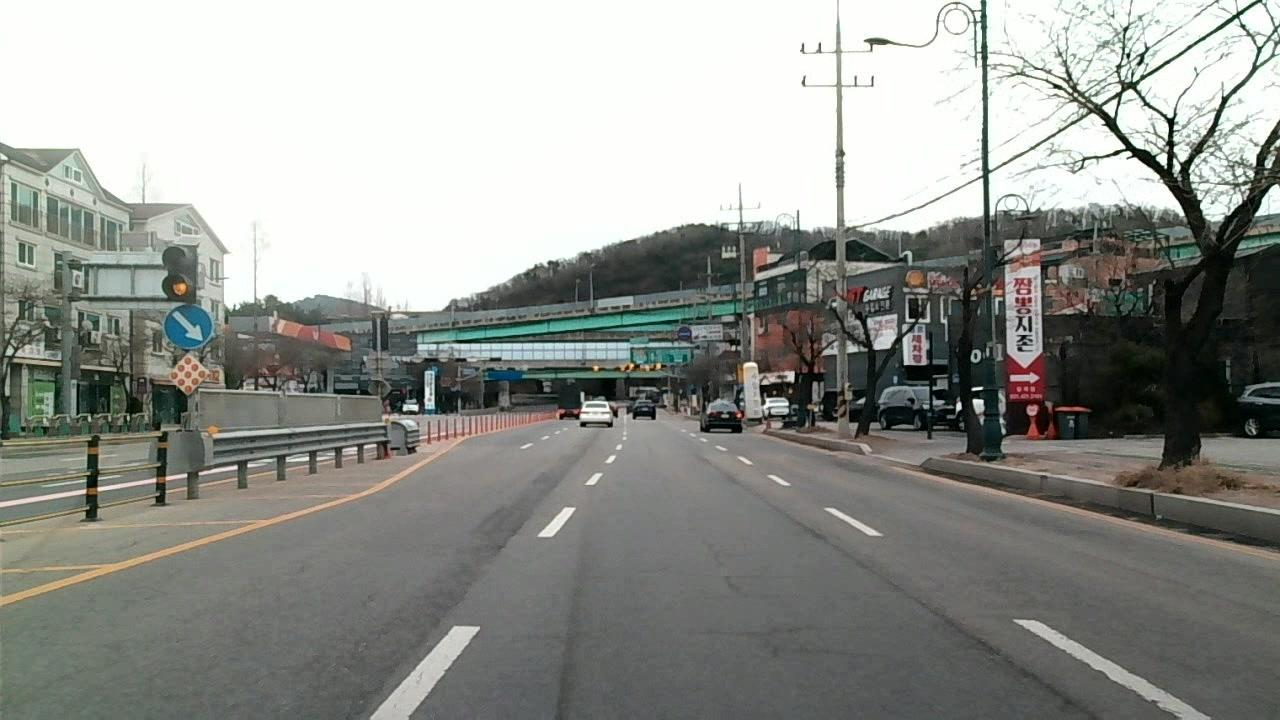vcrack: (948, 617, 1093, 720), (341, 608, 464, 714), (796, 522, 936, 606), (467, 514, 536, 578)
